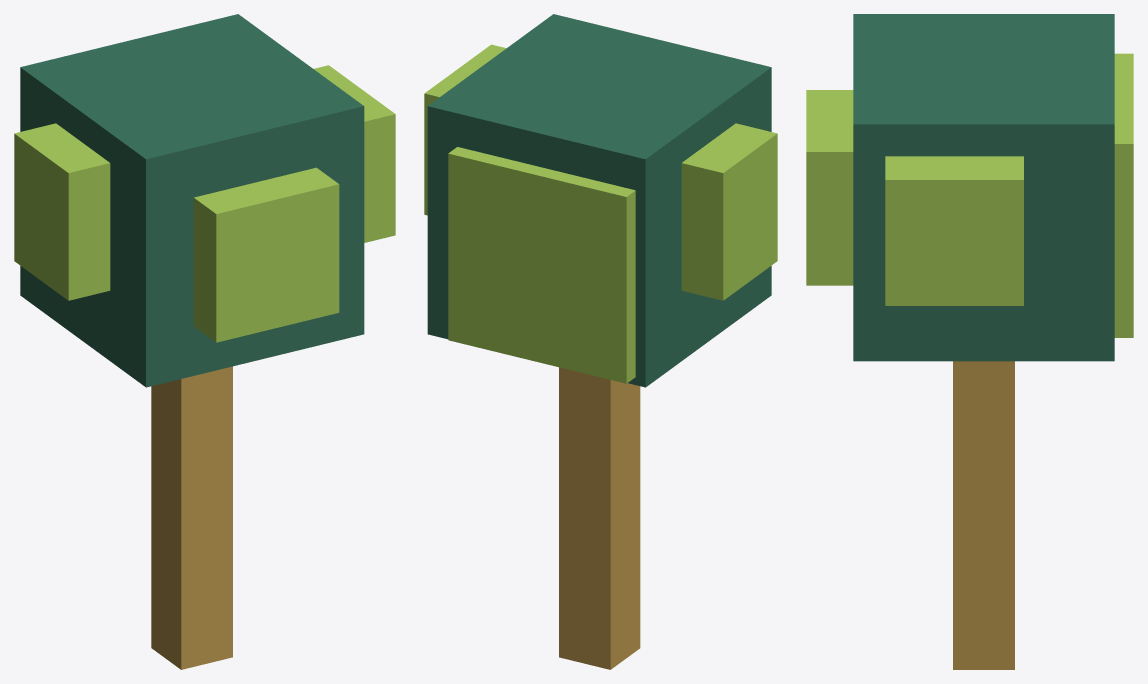
Rendered from midTree.obj.
3 renders of one model, left to right at view 1: azimuth 30°, elevation 25°; view 2: azimuth 150°, elevation 25°; view 3: azimuth 270°, elevation 25°, orthographic. The views are drawn at different scales.
Parts seen in each view (by area): view 1: Cube; view 2: Cube; view 3: Cube.
Boxes of the visible parts, left/top/right/bottom form: Cube: left=14, top=14, right=395, bottom=669; Cube: left=424, top=14, right=777, bottom=669; Cube: left=806, top=14, right=1133, bottom=669.
Size of the model in its own units: 2.81 by 4.96 by 2.51.
Materials: 1 (1 with a texture image).
